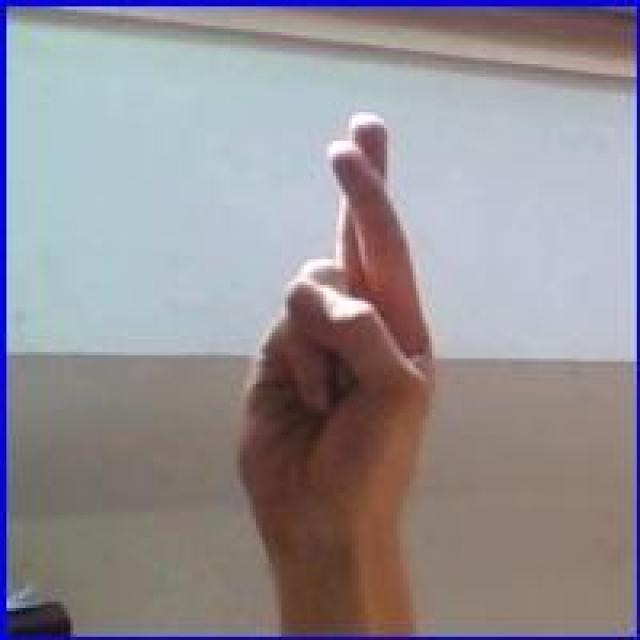R: (229, 104, 443, 597)
